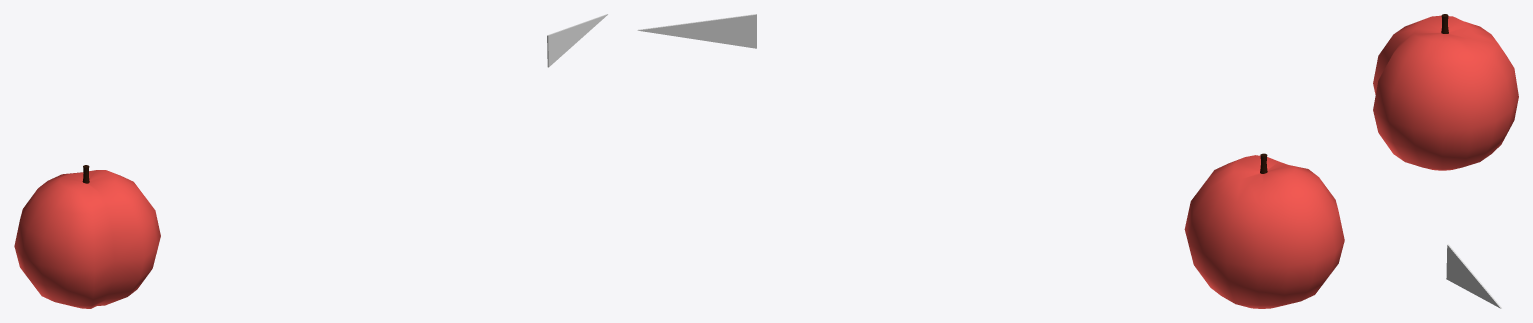
File: peach.fbx
The picture shows the model from 3 angles, left to right: view 1: azimuth 30°, elevation 25°; view 2: azimuth 150°, elevation 25°; view 3: azimuth 270°, elevation 25°; orthographic projection. The views are drawn at different scales.
Parts seen in each view (by area): view 1: Cylinder001, Prism001; view 2: Cylinder001, Prism001; view 3: Cylinder001, Prism001.
Boxes of the visible parts, x1=… form: Cylinder001: x1=14, y1=165, x2=160, y2=308; Prism001: x1=547, y1=14, x2=607, y2=67; Cylinder001: x1=1184, y1=153, x2=1344, y2=308; Prism001: x1=637, y1=14, x2=756, y2=48; Cylinder001: x1=1373, y1=14, x2=1518, y2=170; Prism001: x1=1446, y1=244, x2=1501, y2=308.
Size of the model in its own units: 413 by 99.11 by 77.64.
